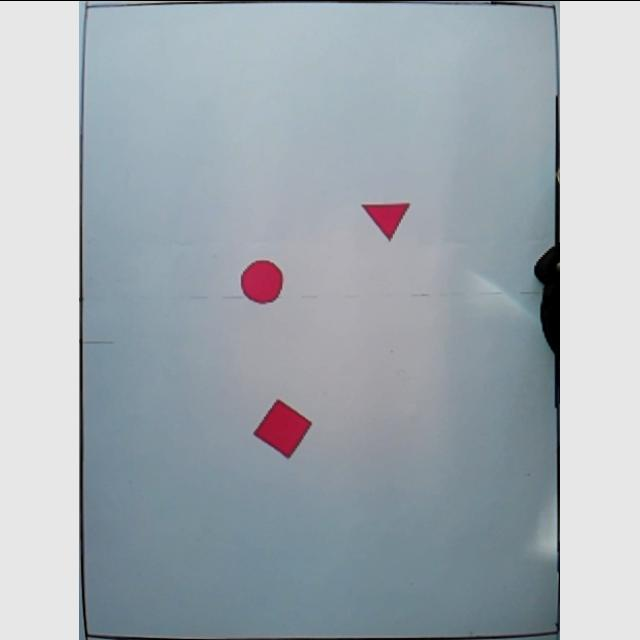pinkCircle: (240, 258, 286, 304)
pinkSquare: (252, 397, 316, 457)
pinkTriangle: (360, 196, 414, 242)
